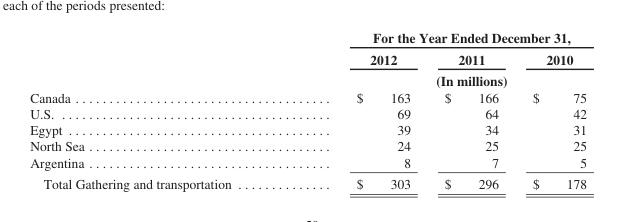table: (29, 29, 586, 191)
table column: (29, 29, 293, 191), (293, 29, 426, 191), (426, 29, 514, 191), (514, 29, 586, 191)
table column header: (29, 29, 586, 88)
table row: (29, 47, 586, 69), (29, 69, 586, 88), (29, 153, 586, 172), (29, 172, 586, 191), (29, 29, 586, 47), (29, 88, 586, 105), (29, 105, 586, 121), (29, 121, 586, 137), (29, 137, 586, 153)
table spanning cell: (293, 69, 586, 88), (293, 29, 586, 47)
